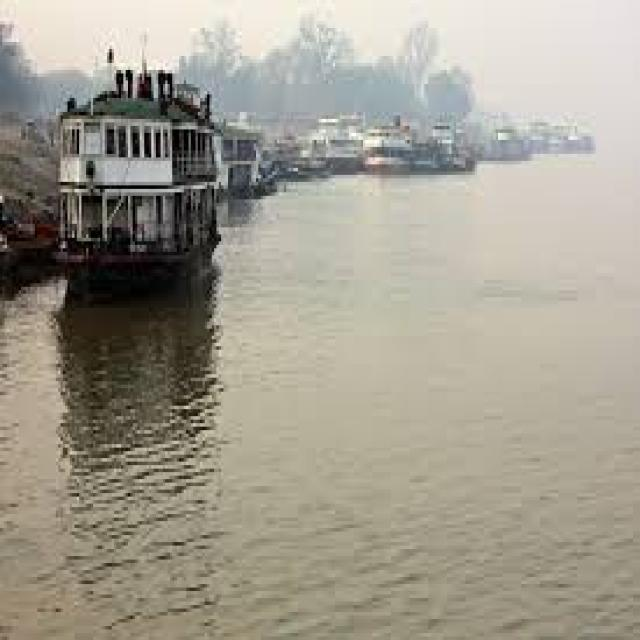houseboat: (48, 73, 222, 289)
